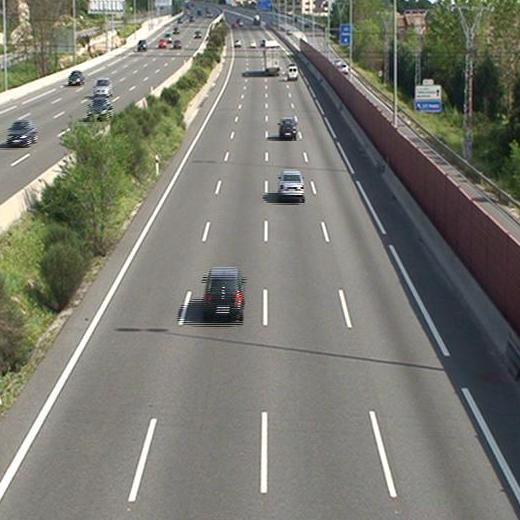car: (202, 269, 244, 319), (278, 171, 304, 200), (278, 118, 297, 138)
truck: (263, 42, 281, 73)
van: (288, 66, 299, 80)
